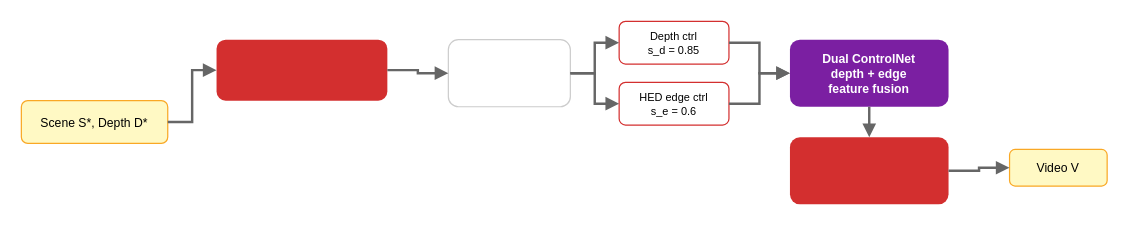
Some shapes in this 1129 by 226 pixel diagram are drawn without their labels. Here are the shapes that lost their labels. From the top down, the box of each, then its label:
(216, 39, 387, 100): Multi-View Render orbit + dolly traj.
(447, 38, 570, 107): RGB I_t Depth D_t Edge E_t
(789, 137, 948, 204): Video DiT Wan2.2 / LTX2.3 temporal attention
